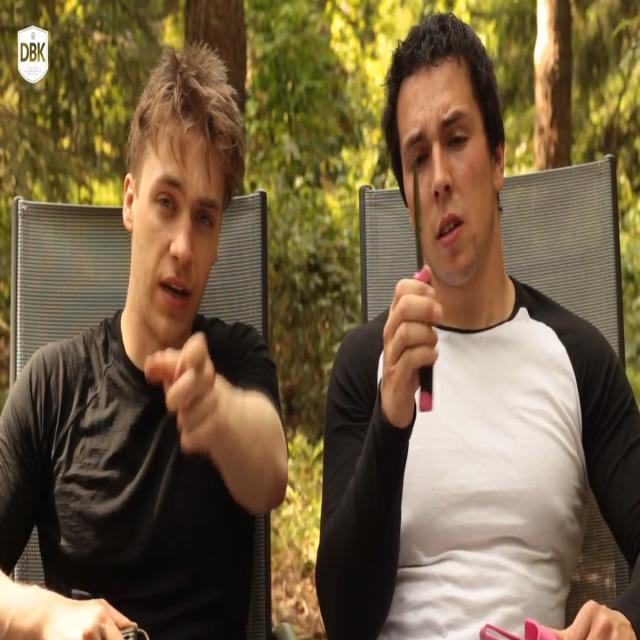knife: (413, 165, 440, 429)
